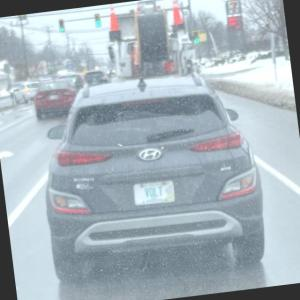Plate: (132, 180, 176, 206)
